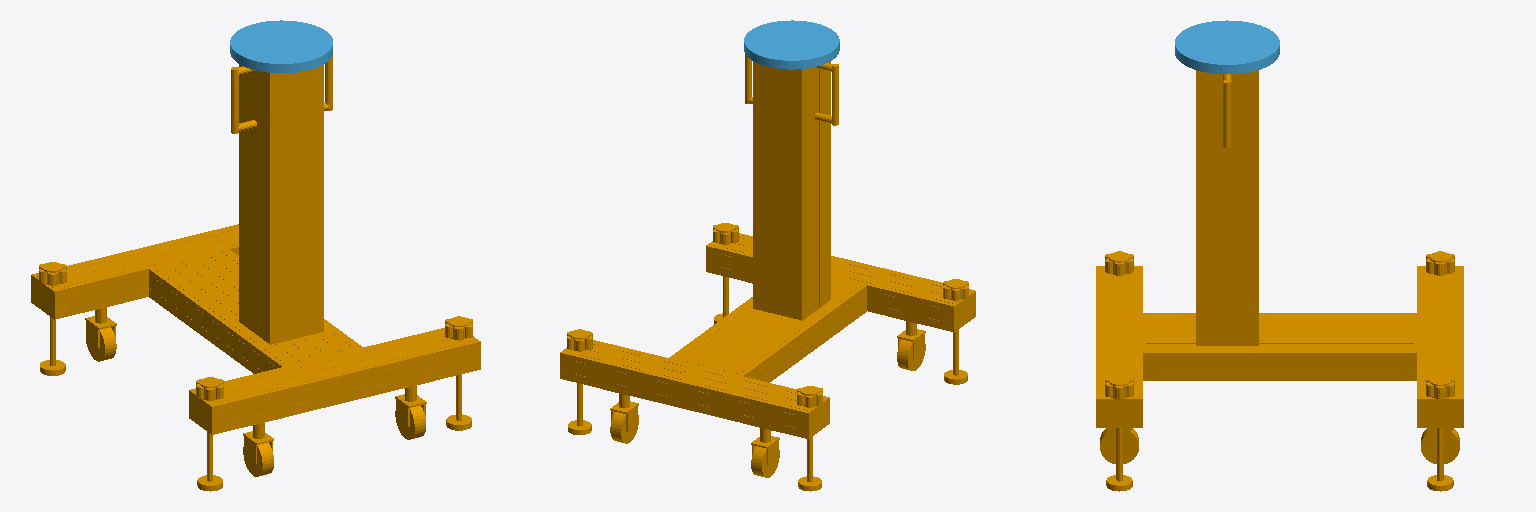
robot.urdf — nic_ak_r_fks05:
<?xml version="1.0"?>
<robot name="nic_ak_r_fks05">
<link name="base_link"><visual ><geometry ><mesh filename="../meshes/base_link.obj"/></geometry></visual><collision ><origin xyz="0 0 0.162" rpy="0 0 0"/><geometry ><box size="0.18 0.52 0.06"/></geometry></collision><collision ><origin xyz="0 -0.1 0.486" rpy="0 0 0"/><geometry ><box size="0.12 0.12 0.588"/></geometry></collision><collision ><origin xyz="0 -0.305 0.096" rpy="0 0 0"/><geometry ><box size="0.6 0.09 0.192"/></geometry></collision><collision ><origin xyz="-0.278 -0.305 0.207" rpy="0 0 0"/><geometry ><box size="0.06 0.06 0.03"/></geometry></collision><collision ><origin xyz="0.278 -0.305 0.207" rpy="0 0 0"/><geometry ><box size="0.06 0.06 0.03"/></geometry></collision><collision ><origin xyz="0 0.305 0.096" rpy="0 0 0"/><geometry ><box size="0.6 0.09 0.192"/></geometry></collision><collision ><origin xyz="-0.278 0.305 0.207" rpy="0 0 0"/><geometry ><box size="0.06 0.06 0.03"/></geometry></collision><collision ><origin xyz="0.278 0.305 0.207" rpy="0 0 0"/><geometry ><box size="0.06 0.06 0.03"/></geometry></collision><collision ><origin xyz="-0.0865 -0.1 0.7" rpy="0 0 0"/><geometry ><box size="0.053 0.016 0.136"/></geometry></collision><collision ><origin xyz="0.0865 -0.1 0.7" rpy="0 0 0"/><geometry ><box size="0.053 0.016 0.136"/></geometry></collision></link>
<link name="robot_base_plate"><visual ><geometry ><mesh filename="../meshes/robot_base_plate.obj"/></geometry></visual><collision ><origin xyz="0 0 0.01" rpy="0 0 0"/><geometry ><cylinder radius="0.1" length="0.02"/></geometry></collision></link>
<link name="mount"></link>
<link name="robot_mount"></link>
<joint name="robot_base_plate_joint" type="fixed"><parent link="base_link"/><child link="robot_base_plate"/><origin xyz="0 -0.1 0.78" rpy="0 0 0"/></joint>
<joint name="mount_joint" type="fixed"><parent link="base_link"/><child link="mount"/><origin xyz="0 0 0" rpy="0 0 0"/></joint>
<joint name="robot_mount_joint" type="fixed"><parent link="robot_base_plate"/><child link="robot_mount"/><origin xyz="0 0 0.02" rpy="0 0 0"/></joint>
</robot>

--- What the picture shows (computed from the rendered views, not written in the file) ---
The picture shows the robot from 3 angles, left to right: view 1: azimuth 30°, elevation 25°; view 2: azimuth 150°, elevation 25°; view 3: azimuth 270°, elevation 25°; orthographic projection.
Model nic_ak_r_fks05 with 4 links and 3 joints (3 fixed), rooted at base_link, posed all joints at 0.
Links seen in each view (by area): view 1: base_link, robot_base_plate; view 2: base_link, robot_base_plate; view 3: base_link, robot_base_plate.
Boxes of the visible links, <box> form: base_link: <box>31,56,480,491</box>; robot_base_plate: <box>230,20,332,72</box>; base_link: <box>560,54,975,491</box>; robot_base_plate: <box>744,20,839,69</box>; base_link: <box>1096,70,1463,491</box>; robot_base_plate: <box>1175,20,1279,73</box>.
Size in the robot's own frame: 0.616 by 0.7006 by 0.8 metres.
Meshes: 2 distinct files referenced, 2 mesh visuals loaded (2 OBJ).
